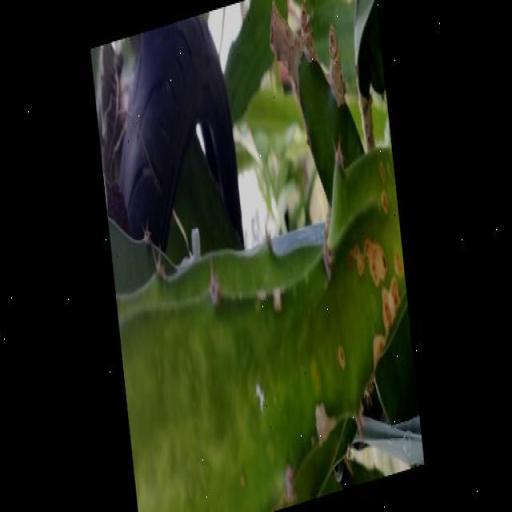stemcanker: (342, 227, 362, 257), (278, 58, 297, 79), (380, 384, 393, 412), (344, 186, 362, 206)
